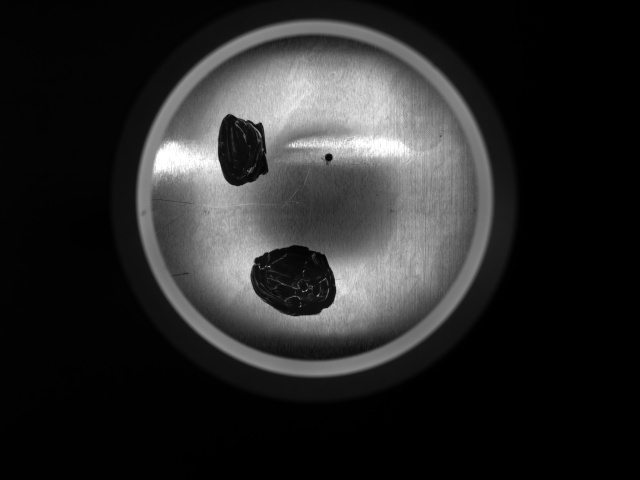ca_shang: (150, 191, 288, 213)
zang_wu: (248, 244, 340, 318), (217, 113, 273, 188)
zhen_kong: (322, 151, 336, 168)
